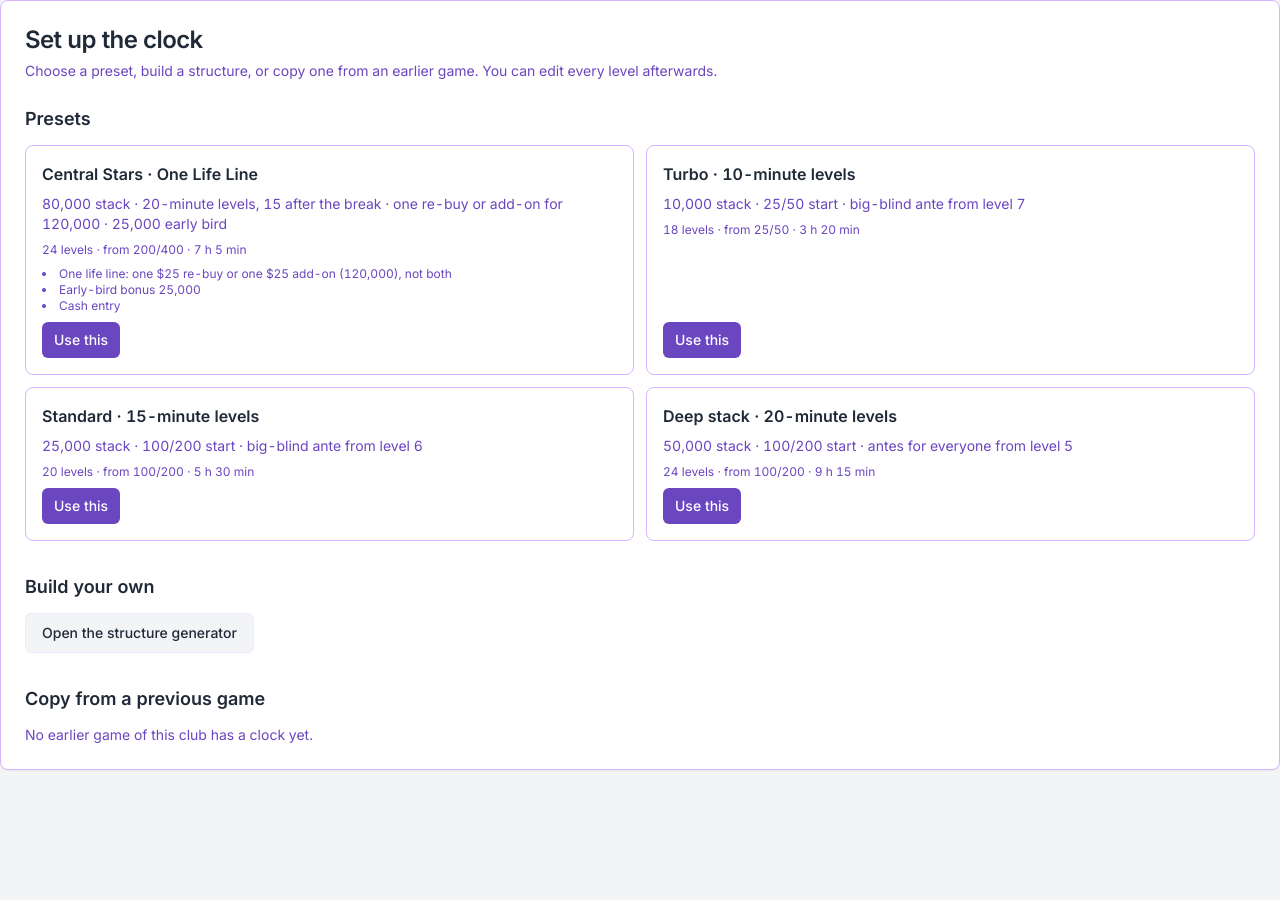
Test: ClockPanel without a clock › sets the clock up from Central Stars' preset, listed first
Expected: the heading "Set up the clock" is shown, x1=25 y1=25 x2=203 y2=54
Expected: the list item with test id "^preset-" shows "Central Stars · One Life Line", x1=42 y1=164 x2=258 y2=184
Click the button with aria-label "Use this: Central Stars · One Life Line": click(81, 340) x1=42 y1=322 x2=120 y2=358
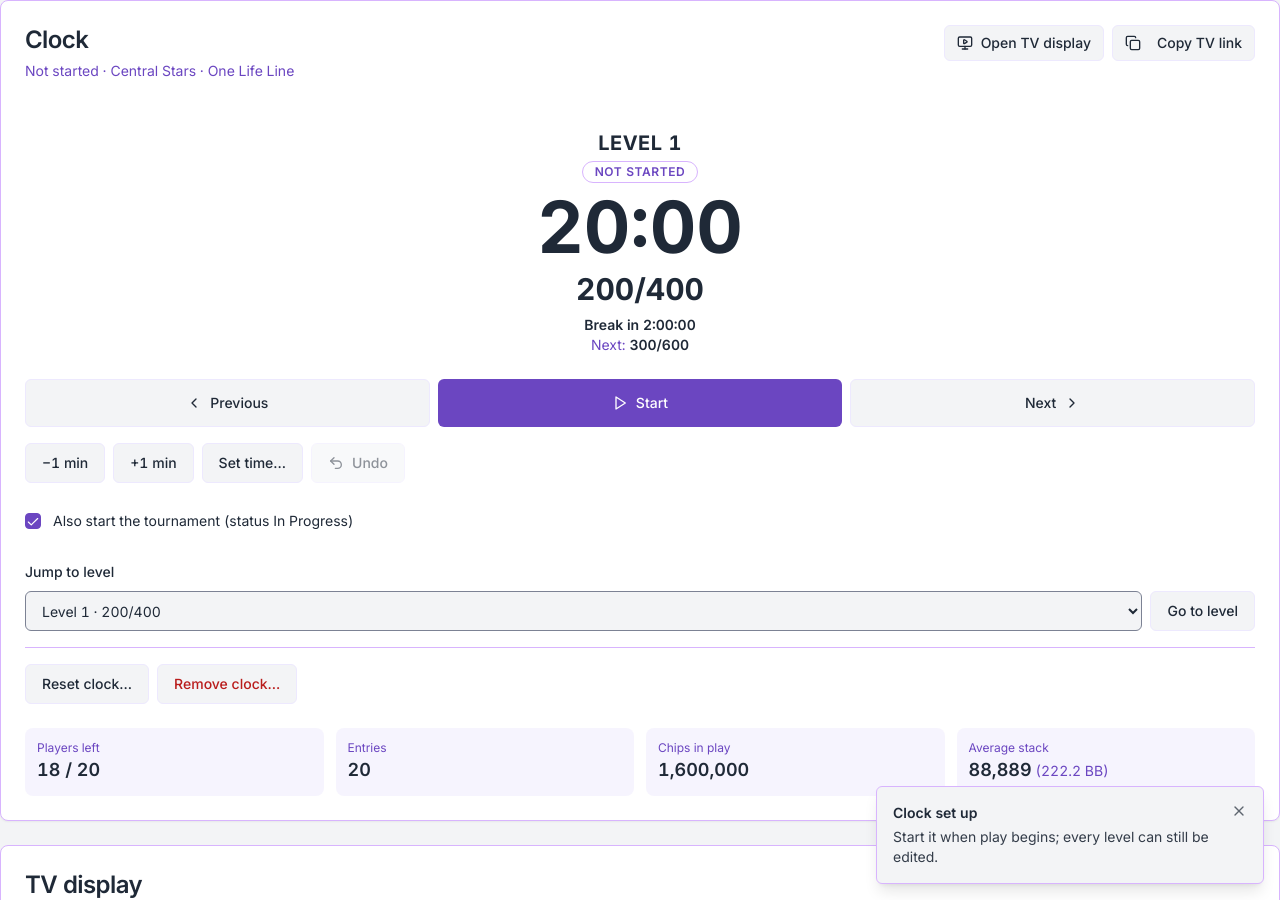
Expected: the text "Clock set up" is shown, x1=893 y1=804 x2=977 y2=821
Expected: the text "Not started · Central Stars · One Life Line" is shown, x1=25 y1=61 x2=294 y2=81
